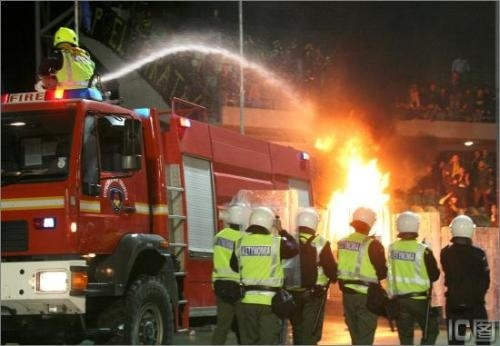fire: (314, 131, 395, 247)
